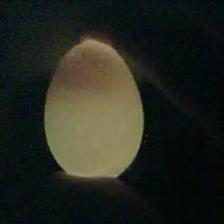infertile: (44, 38, 145, 182)
